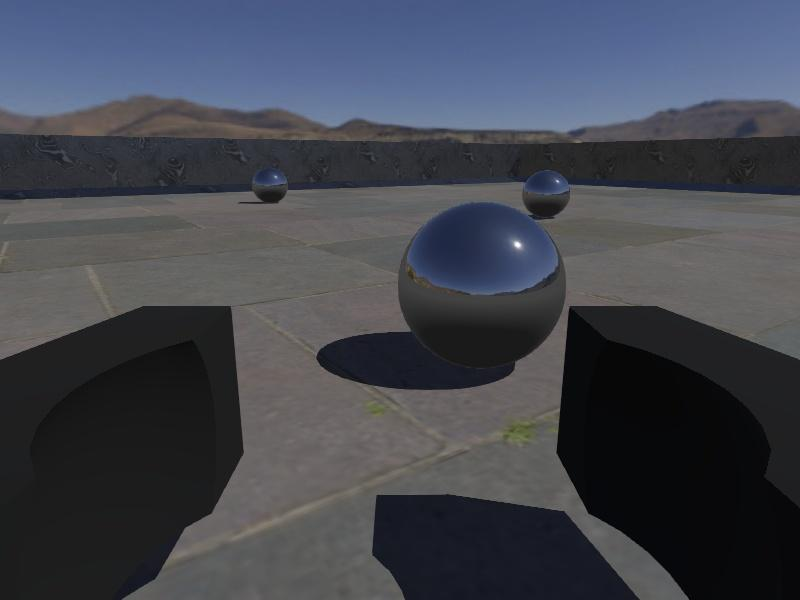steel ball: (398, 201, 568, 368), (521, 168, 572, 218), (252, 167, 289, 203)
